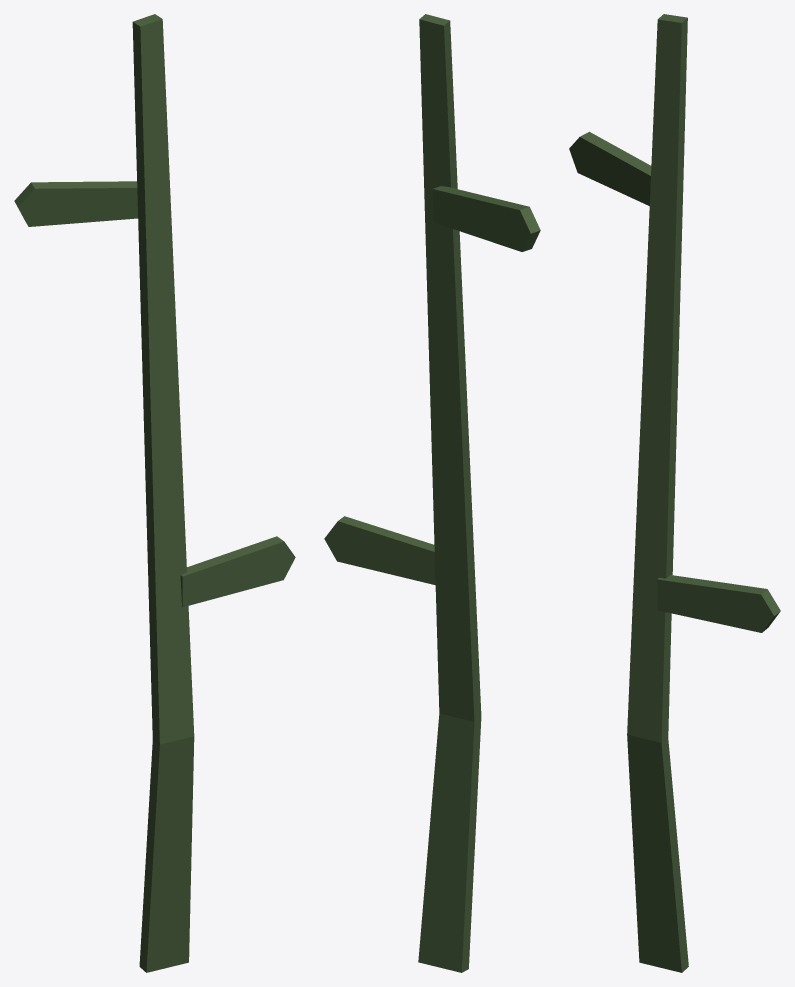
The model's file is Flowers_Harvested.gltf.
The picture shows the model from 3 angles, left to right: view 1: azimuth 30°, elevation 25°; view 2: azimuth 150°, elevation 25°; view 3: azimuth 330°, elevation 25°; orthographic projection. The views are drawn at different scales.
Parts seen in each view (by area): view 1: Flowers_Harvested; view 2: Flowers_Harvested; view 3: Flowers_Harvested.
Boxes of the visible parts, left/top/right/bottom form: Flowers_Harvested: left=14, top=14, right=295, bottom=972; Flowers_Harvested: left=324, top=14, right=540, bottom=972; Flowers_Harvested: left=569, top=14, right=780, bottom=972.
Bounding box in the file's own units: 0.1928 × 0.715 × 0.0672.
